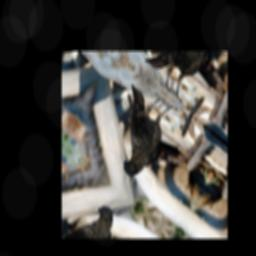Crow: (95, 74, 184, 189)
